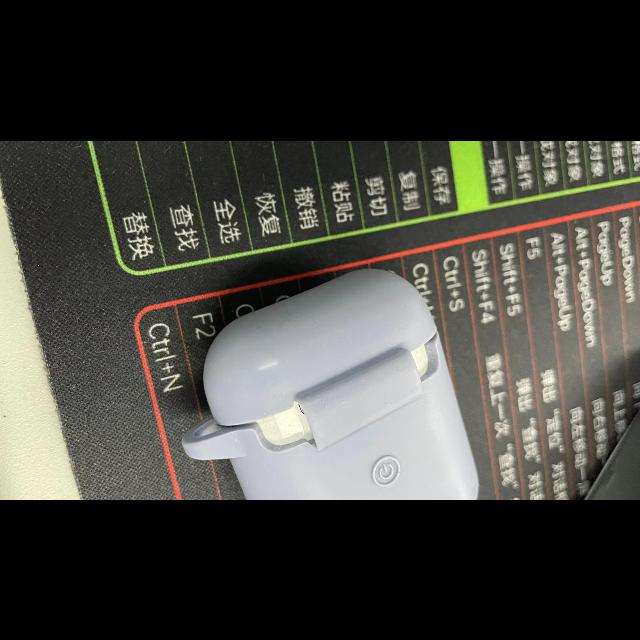airpods: (180, 268, 479, 500)
